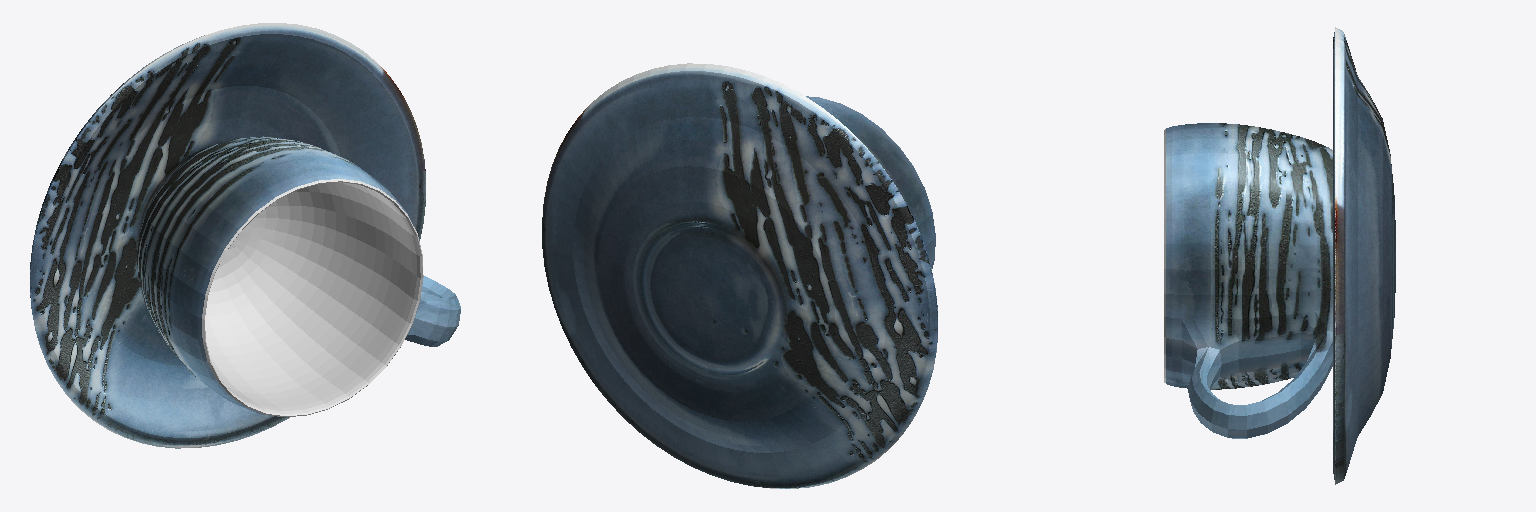
3 views of the same model, side by side, from view 1: azimuth 30°, elevation 25°; view 2: azimuth 150°, elevation 25°; view 3: azimuth 270°, elevation 25° (orthographic).
Visible parts, largest first — view 1: EspressoCupDishBlackWave, EspressoCupBlackWave; view 2: EspressoCupDishBlackWave, EspressoCupBlackWave; view 3: EspressoCupBlackWave, EspressoCupDishBlackWave.
Boxes of the visible parts, x1,y1,x2,y2 form: EspressoCupDishBlackWave: [30, 23, 425, 448]; EspressoCupBlackWave: [137, 136, 460, 416]; EspressoCupDishBlackWave: [542, 63, 937, 488]; EspressoCupBlackWave: [710, 96, 935, 298]; EspressoCupBlackWave: [1164, 123, 1332, 438]; EspressoCupDishBlackWave: [1333, 27, 1395, 484].
Bounding box in the file's own units: 48.15 × 48.15 × 24.35.
Materials: 5 (3 with a texture image).